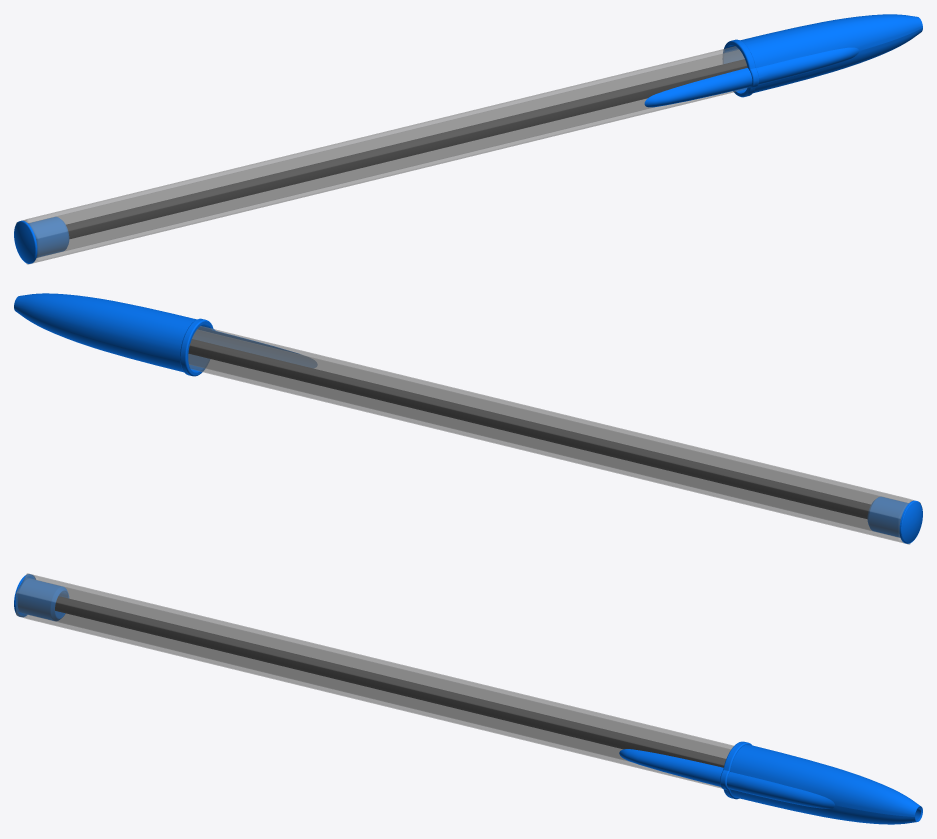
The model's file is pen_and_pencap.fbx.
3 views of the same model, one above another, from view 1: azimuth 30°, elevation 25°; view 2: azimuth 150°, elevation 25°; view 3: azimuth 330°, elevation 25° (orthographic).
Parts seen in each view (by area): view 1: pen, cap; view 2: pen, cap; view 3: pen, cap.
Boxes of the visible parts, x1,y1,x2,y2 form: pen: (14, 46, 747, 264); cap: (644, 14, 922, 107); pen: (188, 326, 922, 544); cap: (14, 293, 316, 376); pen: (14, 573, 733, 788); cap: (619, 741, 922, 824).
Bounding box in the file's own units: 122 × 6.85 × 7.39.
